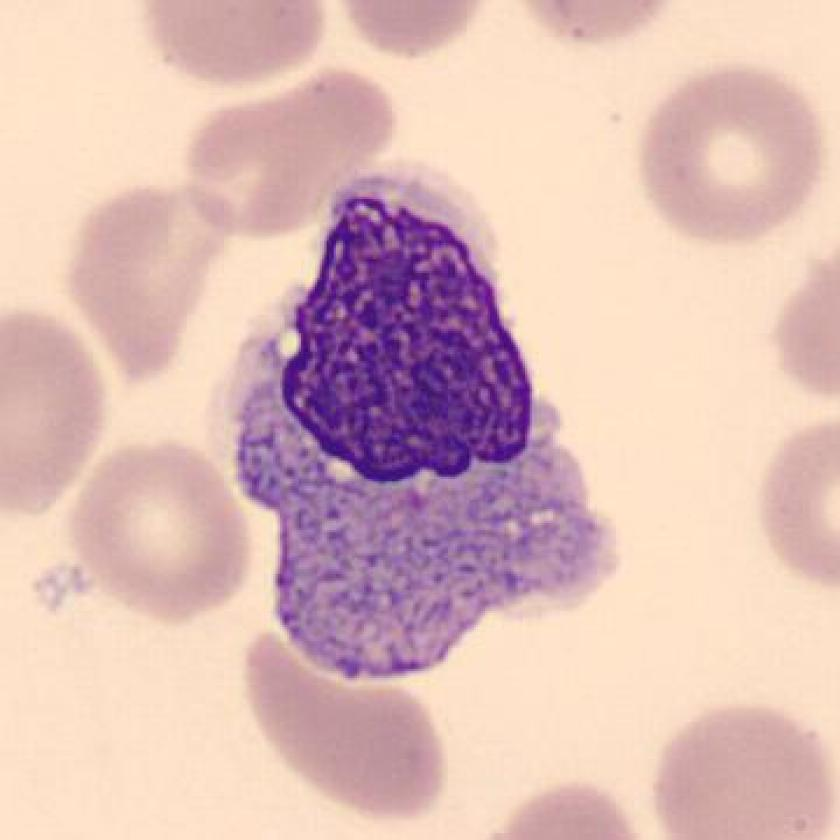monocyte: (202, 161, 640, 695)
